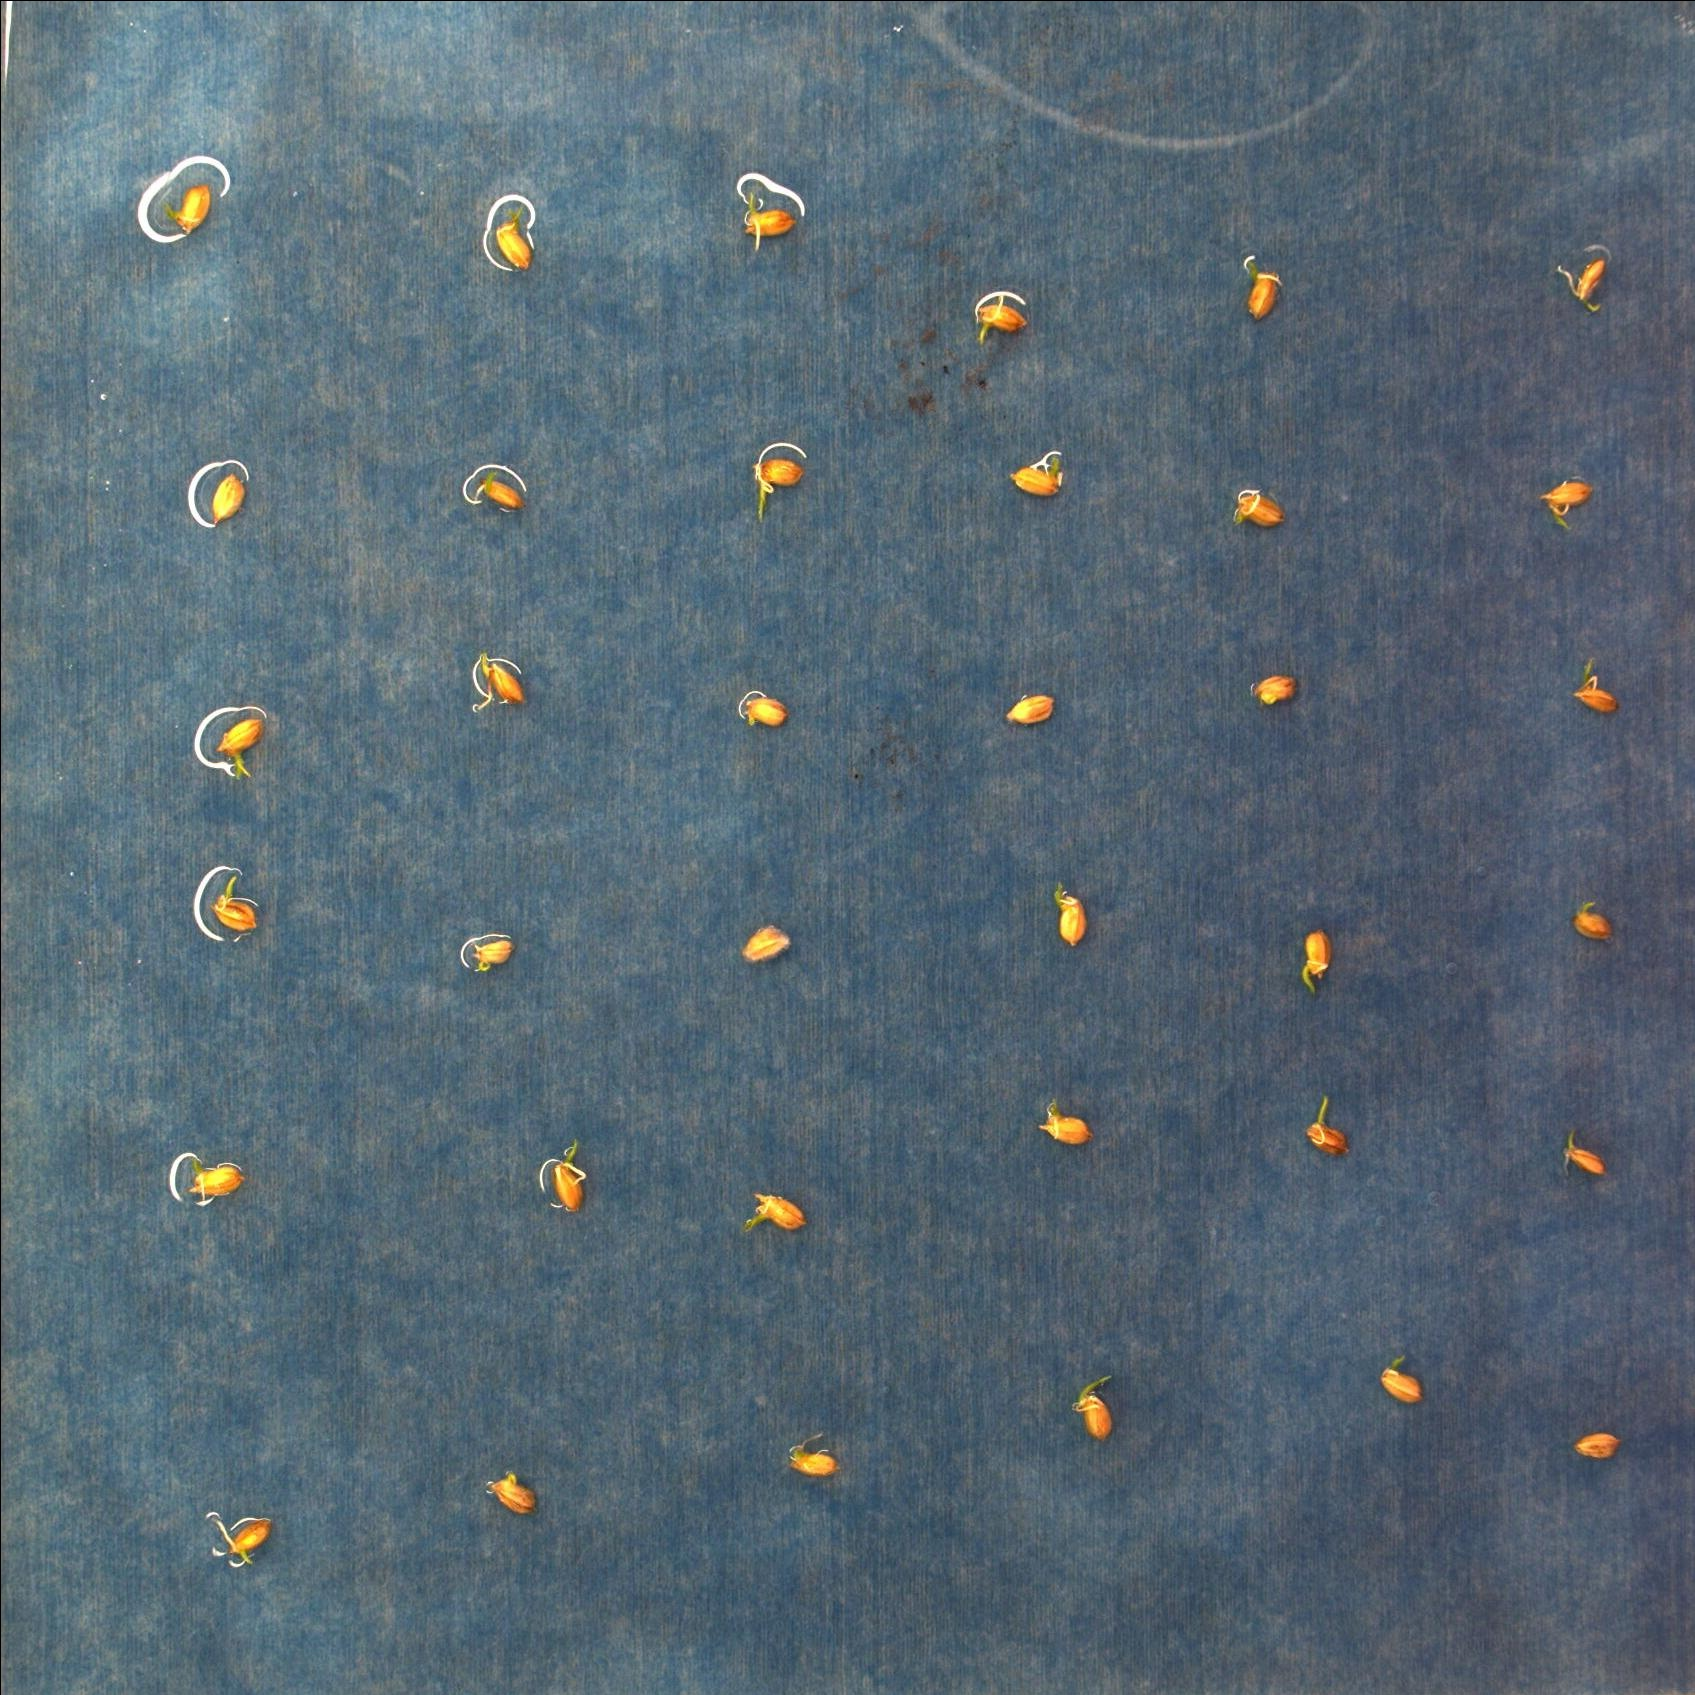not sprout: (213, 1510, 282, 1569), (730, 1184, 804, 1239), (470, 653, 529, 719), (160, 175, 217, 241), (489, 216, 540, 286), (969, 287, 1031, 345), (1551, 255, 1611, 309), (1031, 1097, 1094, 1149), (470, 463, 526, 520), (1524, 480, 1602, 520), (179, 1156, 245, 1201), (1049, 880, 1087, 959), (792, 1430, 840, 1490), (200, 467, 247, 529), (1554, 1121, 1603, 1178), (1246, 258, 1287, 328), (1575, 649, 1617, 716), (483, 1467, 542, 1513), (1007, 452, 1063, 498), (1375, 1350, 1420, 1402), (1571, 896, 1622, 941), (1232, 483, 1284, 528), (458, 936, 518, 973), (742, 925, 798, 965), (1572, 1419, 1620, 1465), (1003, 688, 1057, 726), (744, 688, 789, 733), (1240, 671, 1298, 705)
sprout: (726, 182, 795, 251), (203, 869, 265, 941), (747, 452, 807, 518), (540, 1128, 588, 1211), (213, 709, 265, 781), (1069, 1371, 1121, 1440), (1288, 930, 1336, 997), (1304, 1096, 1349, 1158)
